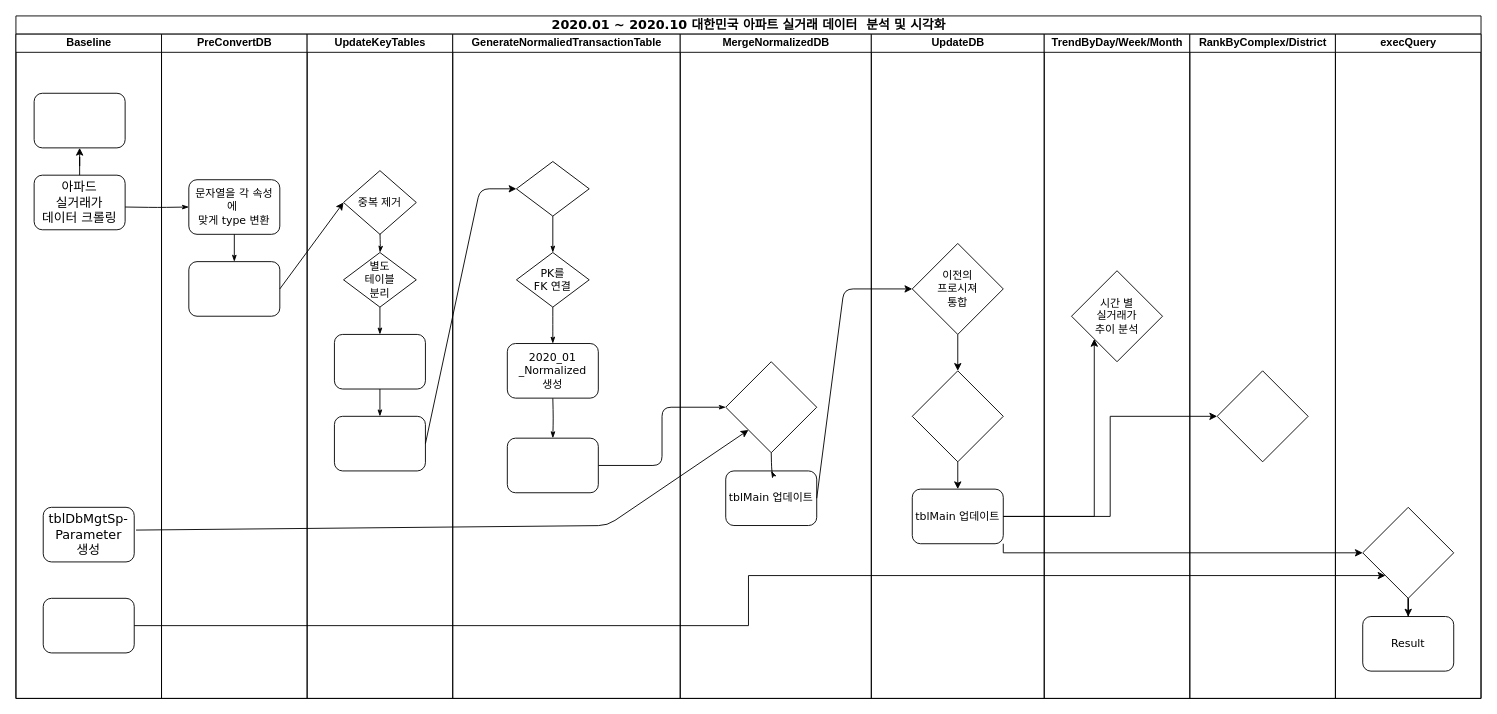
This 1497x714 diagram has some shape labels left out. Each missing label, with the centre of its shape:
2020_01 _Converted: the point at 234,288
2020_01 _converted 업데이트: the point at 379,443
myProjectDB생성: the point at 79,120
tbl 나눠진 속성값 merge: the point at 771,407
tblDistricts / tblComplex / tblExclusive/ tblStreet 생성: the point at 379,361
tblMain 생성: the point at 552,465
tblTranQuery Parameters 생성: the point at 88,625
순차적 실행: the point at 957,416
알맞은 타입 변경: the point at 552,188
위치 별 평균 실거래가 분석: the point at 1262,416
입력에 따른 동적 분석: the point at 1408,552
